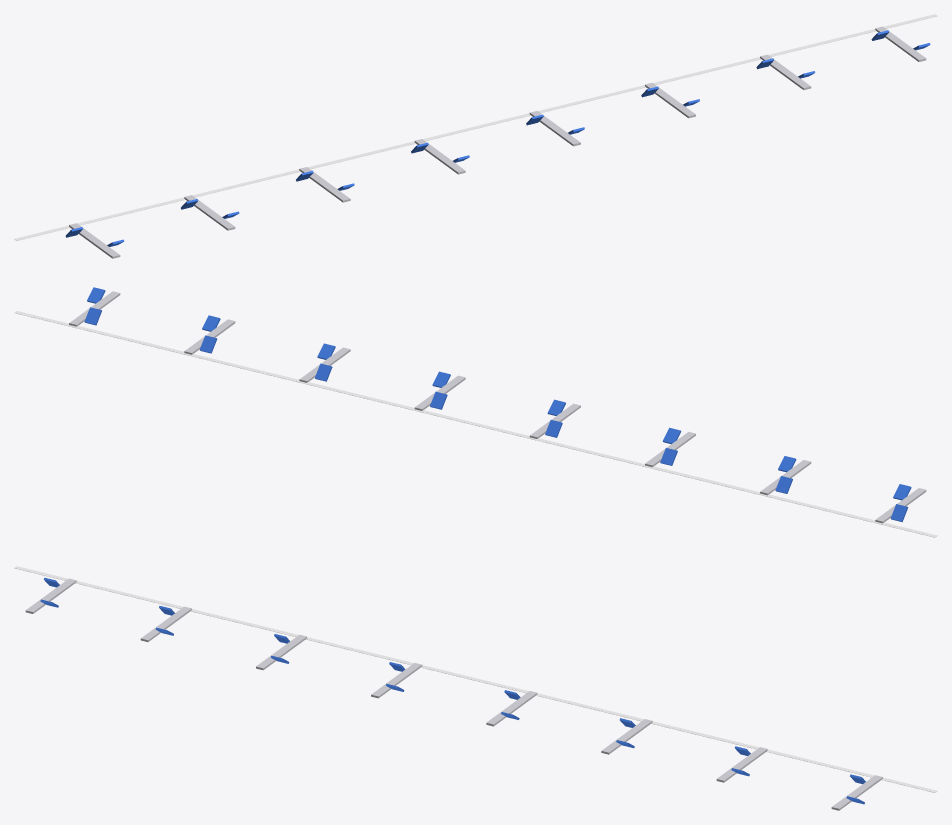
The model's file is StaringLine.glb.
The picture shows the model from 3 angles, top to bottom: view 1: azimuth 30°, elevation 25°; view 2: azimuth 150°, elevation 25°; view 3: azimuth 330°, elevation 25°; orthographic projection.
Visible parts, largest first — view 1: MetaAthletics_StartLine_Anchor; view 2: MetaAthletics_StartLine_Anchor; view 3: MetaAthletics_StartLine_Anchor.
Boxes of the visible parts, box(x1,y1,x2,y2) form: MetaAthletics_StartLine_Anchor: box(14, 14, 937, 240); MetaAthletics_StartLine_Anchor: box(14, 311, 937, 537); MetaAthletics_StartLine_Anchor: box(14, 566, 937, 792).
Bounding box in the file's own units: 9.76 × 0.1202 × 0.825.
